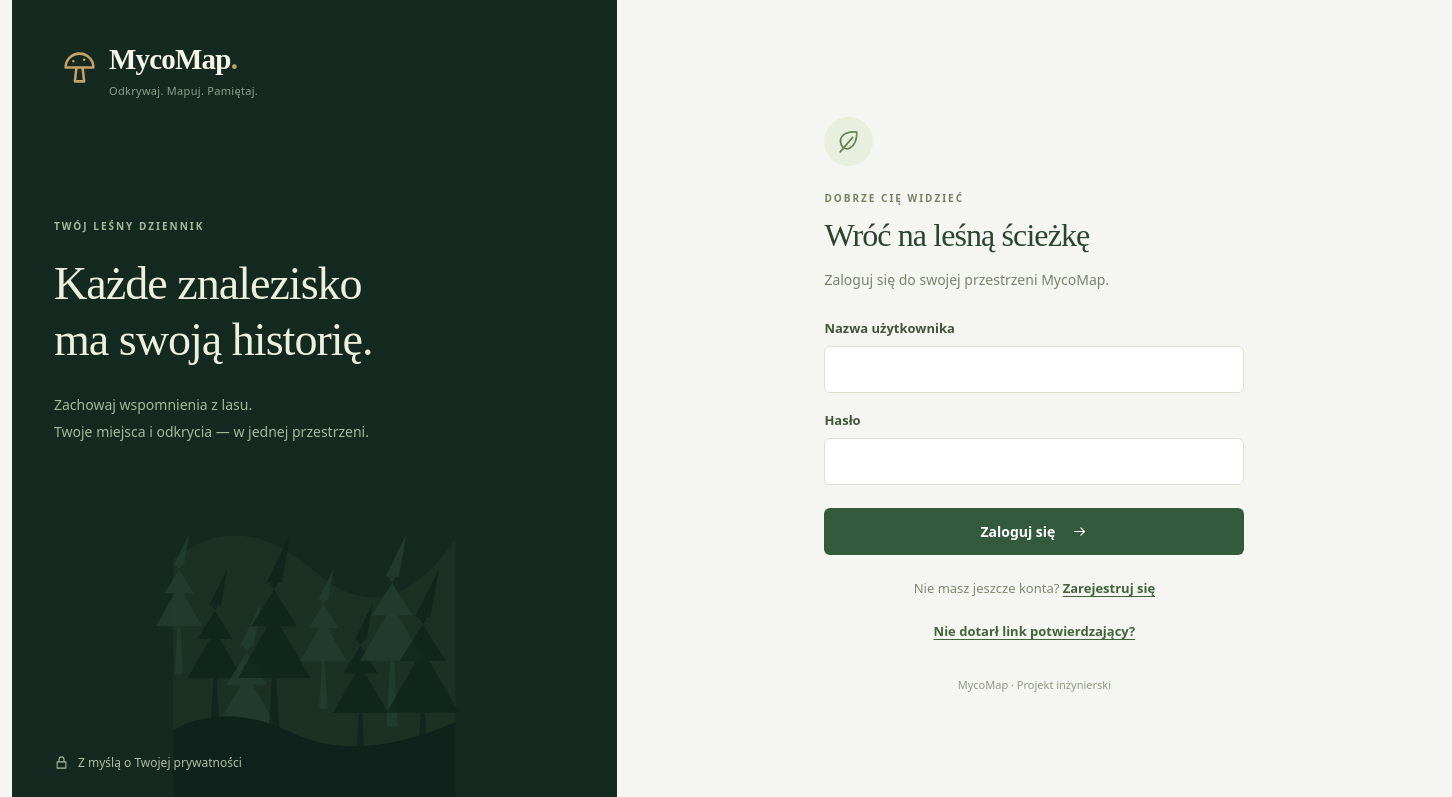
Test case: zwykły użytkownik nie otwiera administracji nawet przez bezpośredni adres
This screenshot has width=1452, height=797.
Type "LesnyStudent" into the field labelled "Nazwa użytkownika" at (1034,370), box [824, 346, 1244, 393]
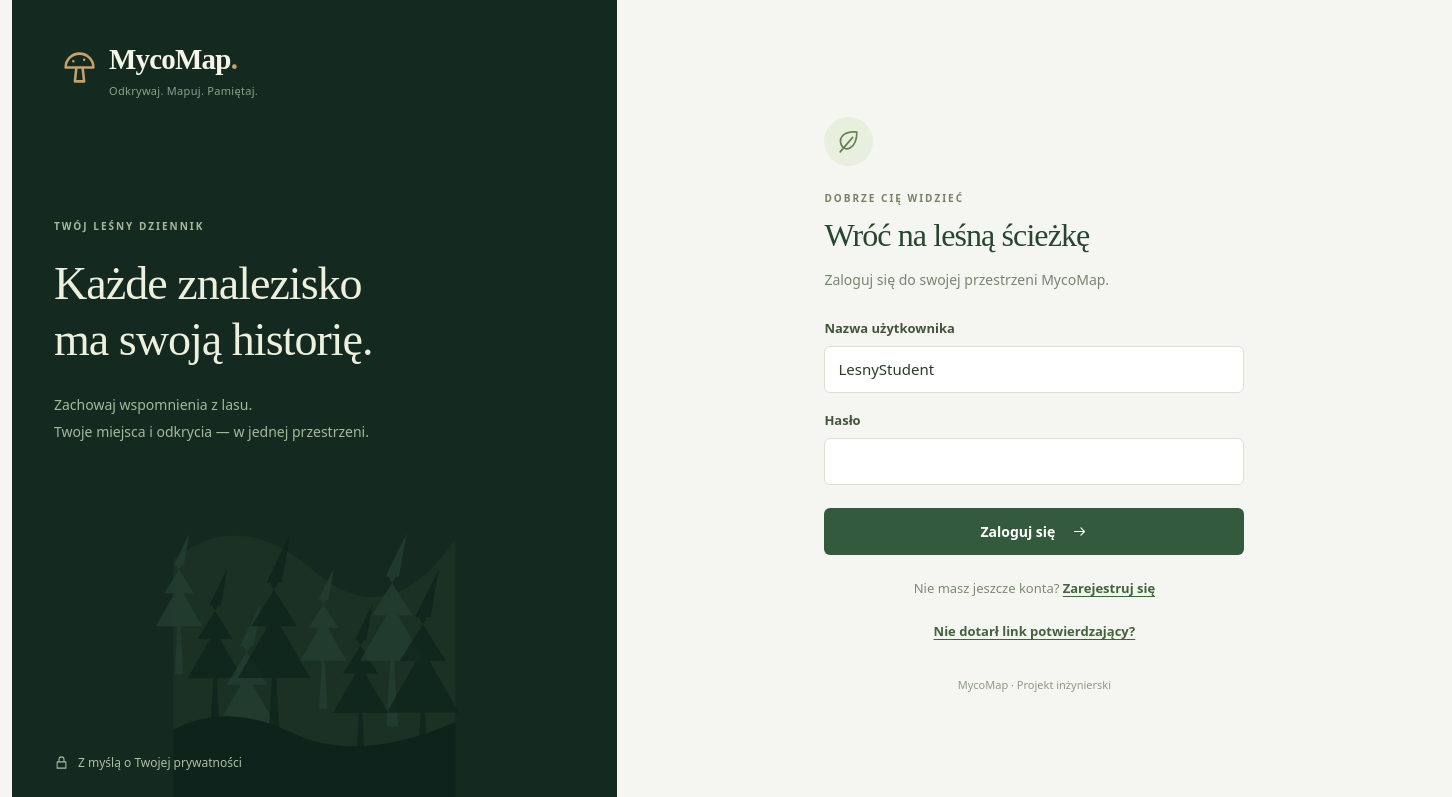
Type "Lesna-wyprawa-2026" into the password field labelled "Hasło" at (1034,462), box [824, 438, 1244, 485]
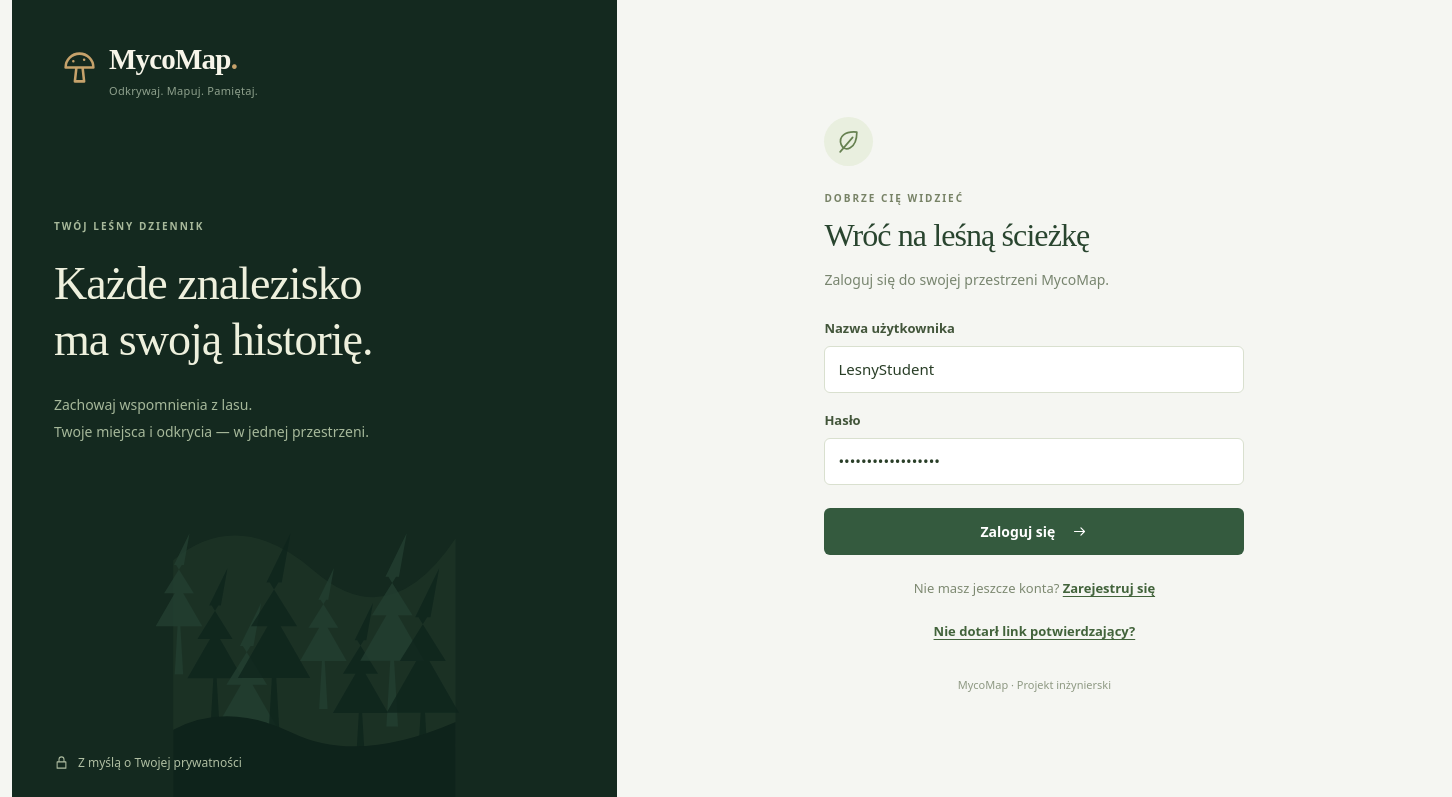
Click the button "Zaloguj się" at (1034,531), box [824, 508, 1244, 555]
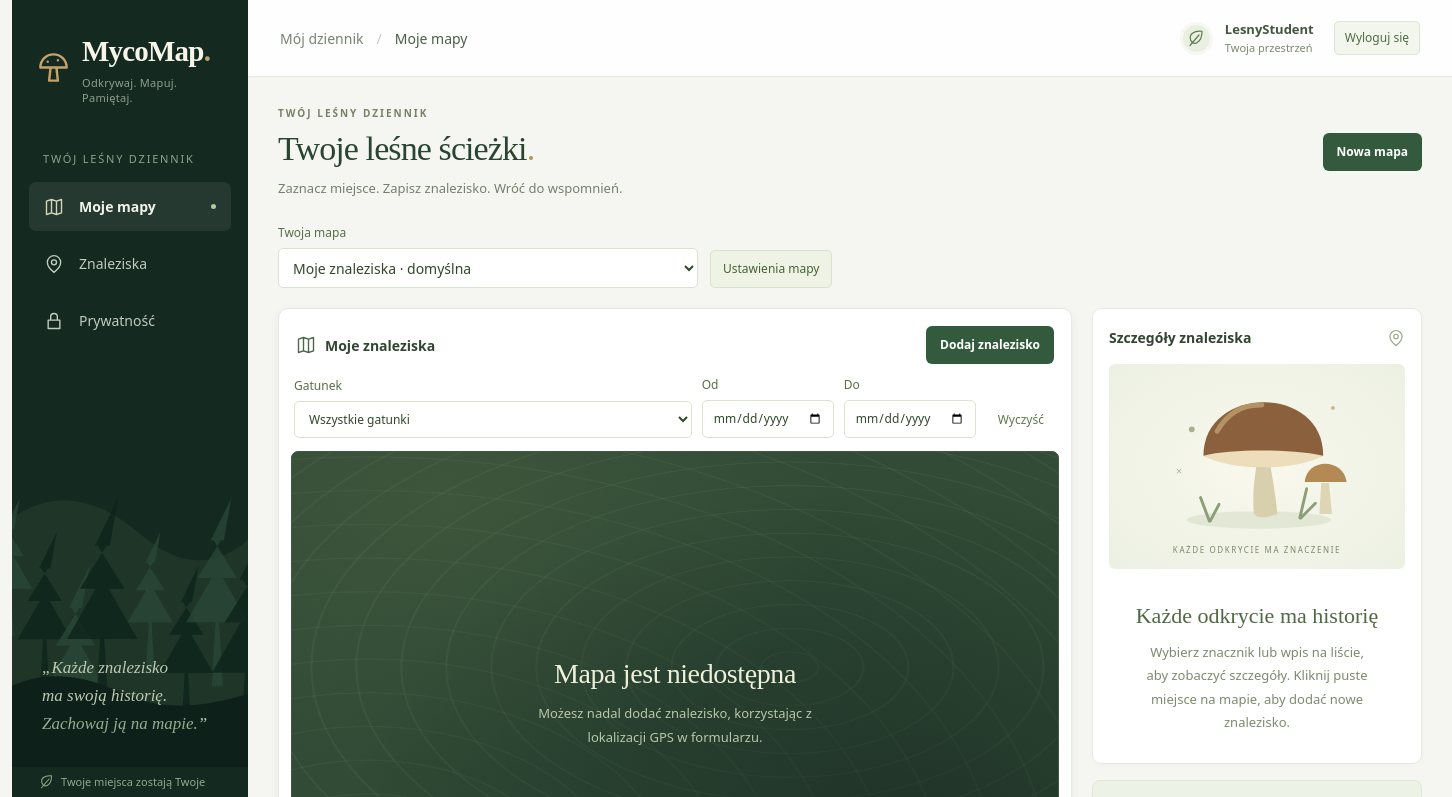
Now the heading "Twoje leśne ścieżki." is shown, box [278, 130, 534, 167]
